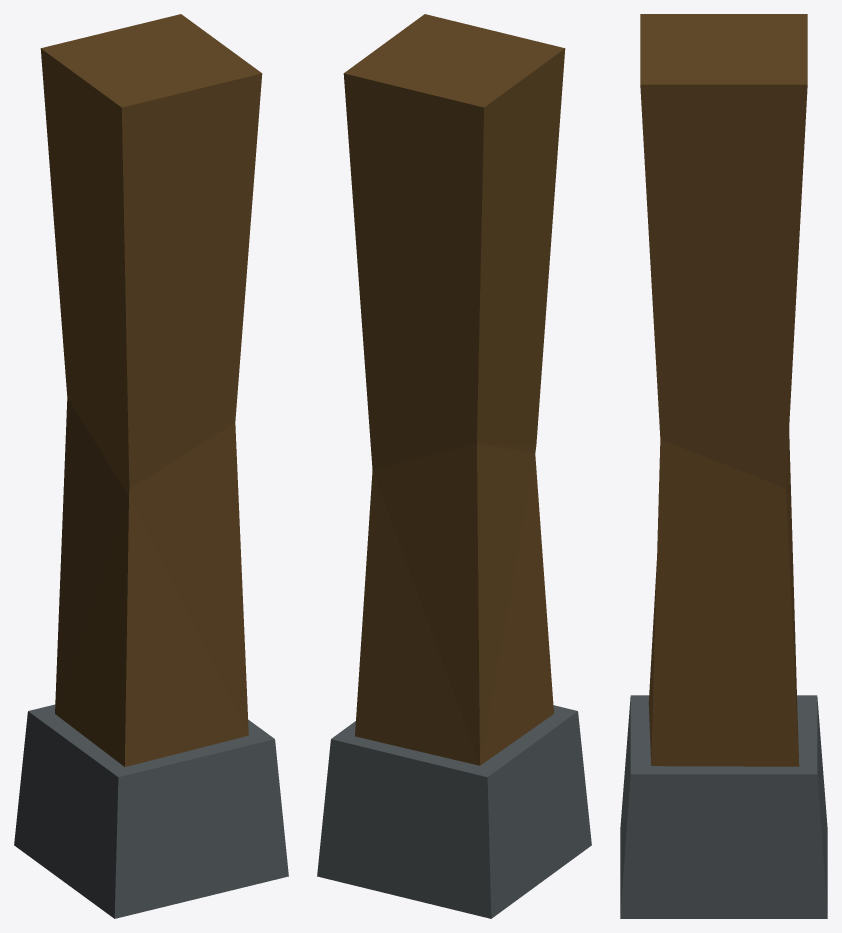
File: Wall_07.fbx
3 renders of one model, left to right at view 1: azimuth 30°, elevation 25°; view 2: azimuth 150°, elevation 25°; view 3: azimuth 270°, elevation 25°, orthographic. The views are drawn at different scales.
Parts seen in each view (by area): view 1: Wall_07; view 2: Wall_07; view 3: Wall_07.
Part boxes in pixels (<box>): Wall_07: <box>14,14,288,918</box>; Wall_07: <box>317,14,591,918</box>; Wall_07: <box>620,14,827,918</box>.
Size of the model in its own units: 0.6476 by 2.84 by 0.6476.
